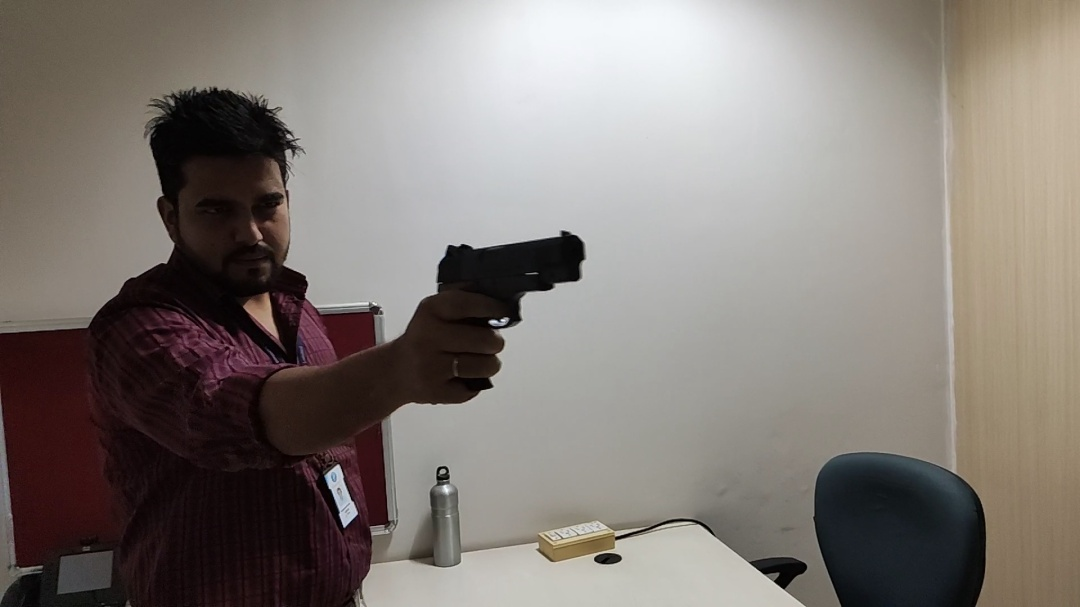gun: (433, 228, 588, 393)
